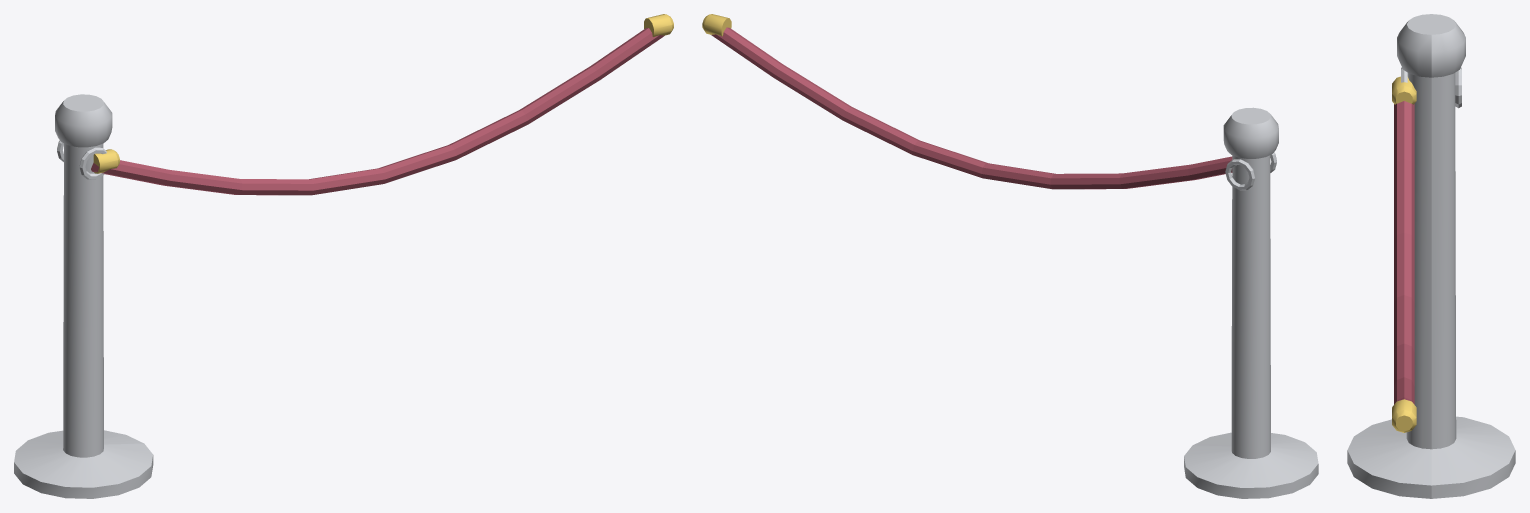
The model's file is nightclub-and-dj-booth-rope-barrier-post-with-rope-327c14d3.glb.
The picture shows the model from 3 angles, left to right: view 1: azimuth 30°, elevation 25°; view 2: azimuth 150°, elevation 25°; view 3: azimuth 270°, elevation 25°; orthographic projection. The views are drawn at different scales.
Visible parts, largest first — view 1: rope-barrier-post-with-rope; view 2: rope-barrier-post-with-rope; view 3: rope-barrier-post-with-rope.
Part boxes in pixels (box(x1,y1,x2,y2)): rope-barrier-post-with-rope: box(14, 14, 673, 498); rope-barrier-post-with-rope: box(702, 14, 1318, 498); rope-barrier-post-with-rope: box(1347, 14, 1515, 498).
Bounding box in the file's own units: 1.78 × 0.98 × 0.34.
